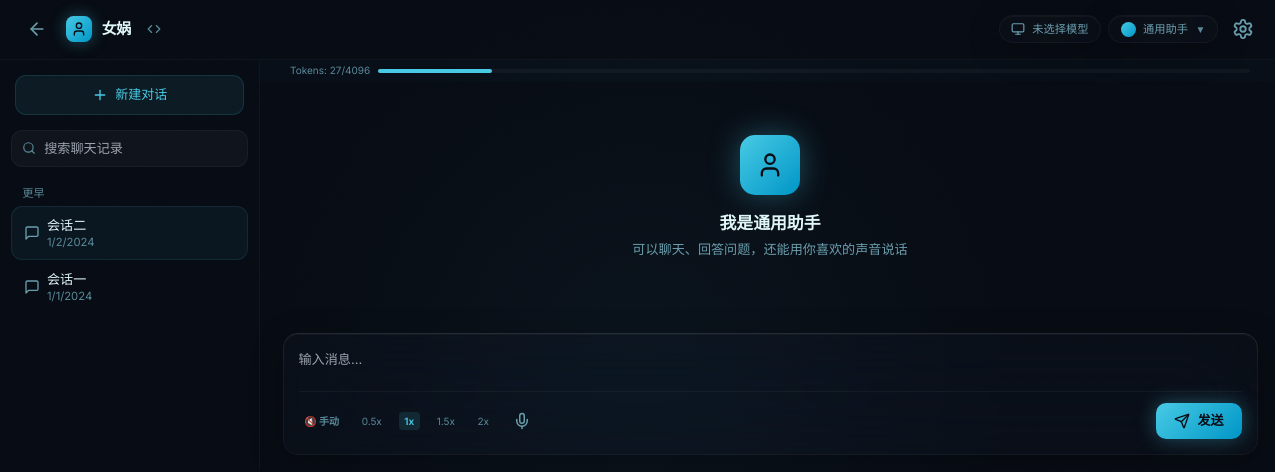
Test case: ChatPage session lifecycle UI › renames a session via inline edit
Double-click the text "会话一" at (67, 279), box [47,271,86,287]
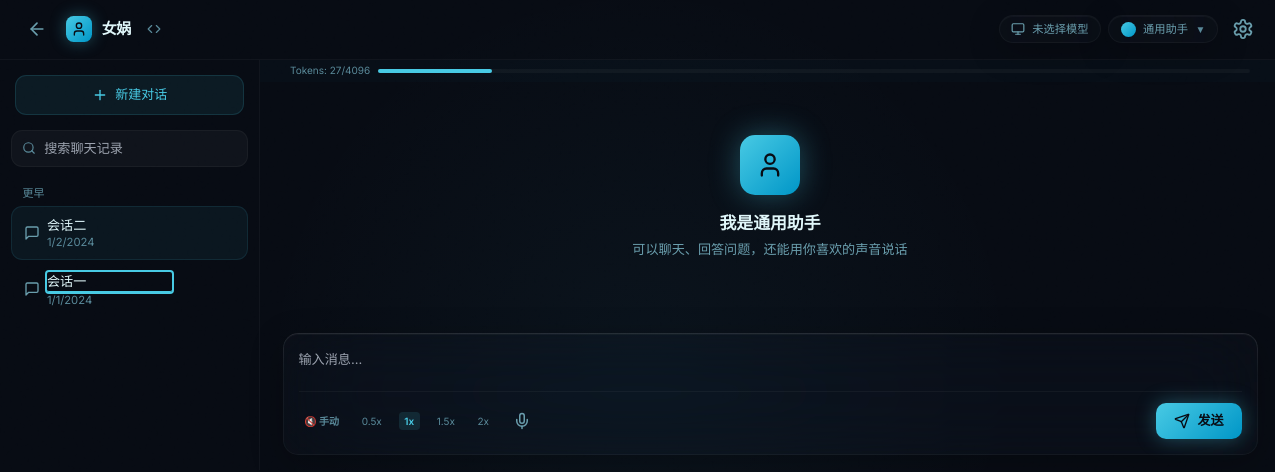
Replace the text in the field named "重命名会话" with "新标题" at (110, 282), box [47,272,172,292]
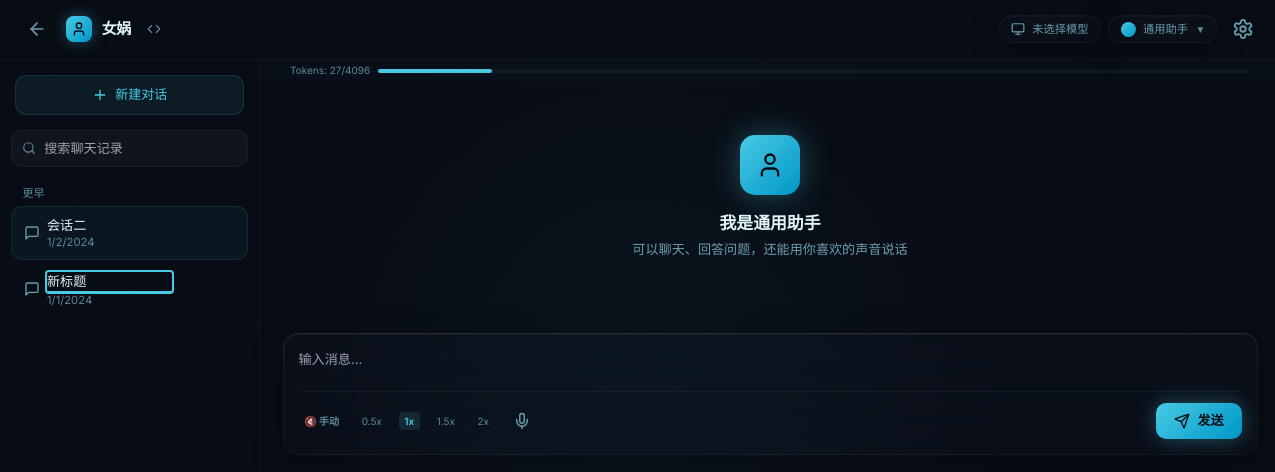
Press Enter in the field named "重命名会话", box [47,272,172,292]
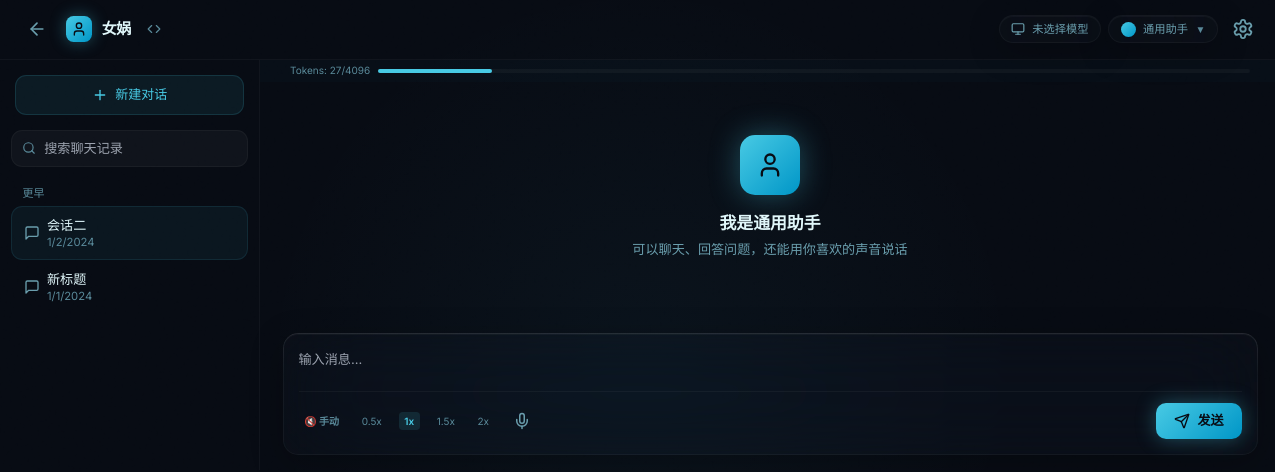
Result: the text "新标题" is shown at [47,271,86,287]
